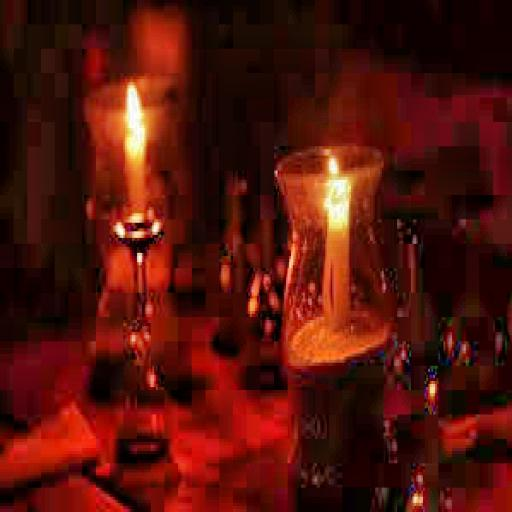fire: (120, 70, 147, 134), (320, 146, 350, 201)
